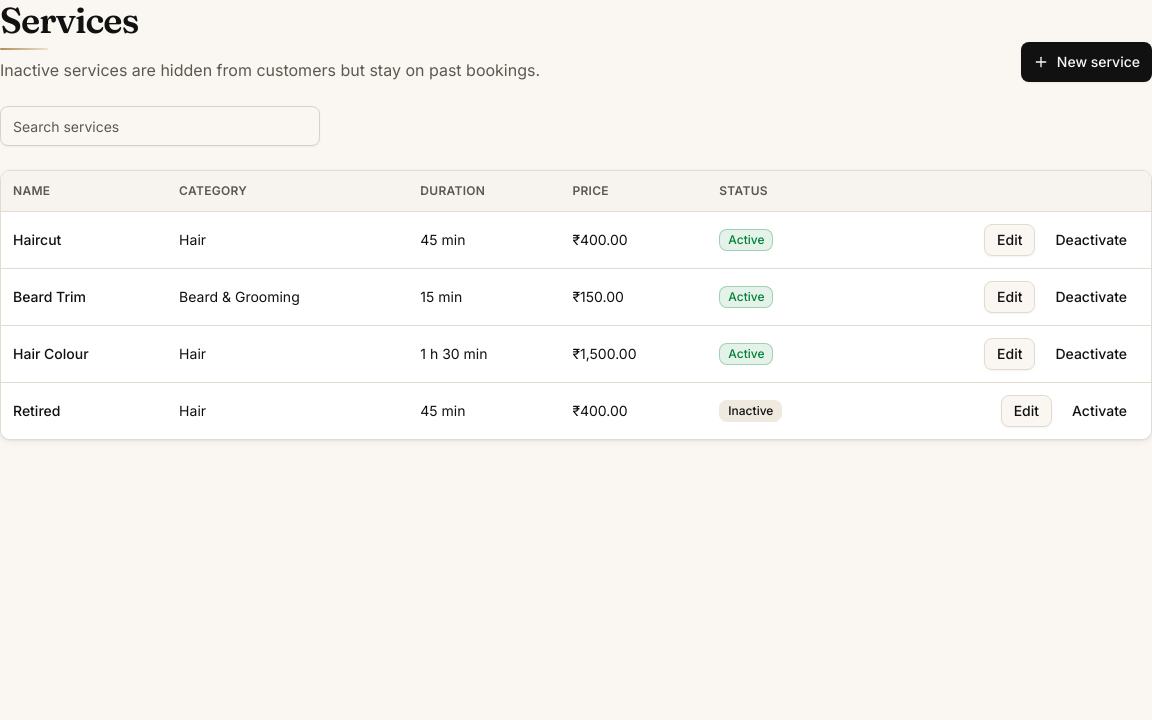
Test: services admin (FR-011, API-023..027) › maps duplicate names and grid violations onto the fields
Click the button with aria-label "Edit Haircut".
click(1010, 240)  # box [984,224,1036,256]
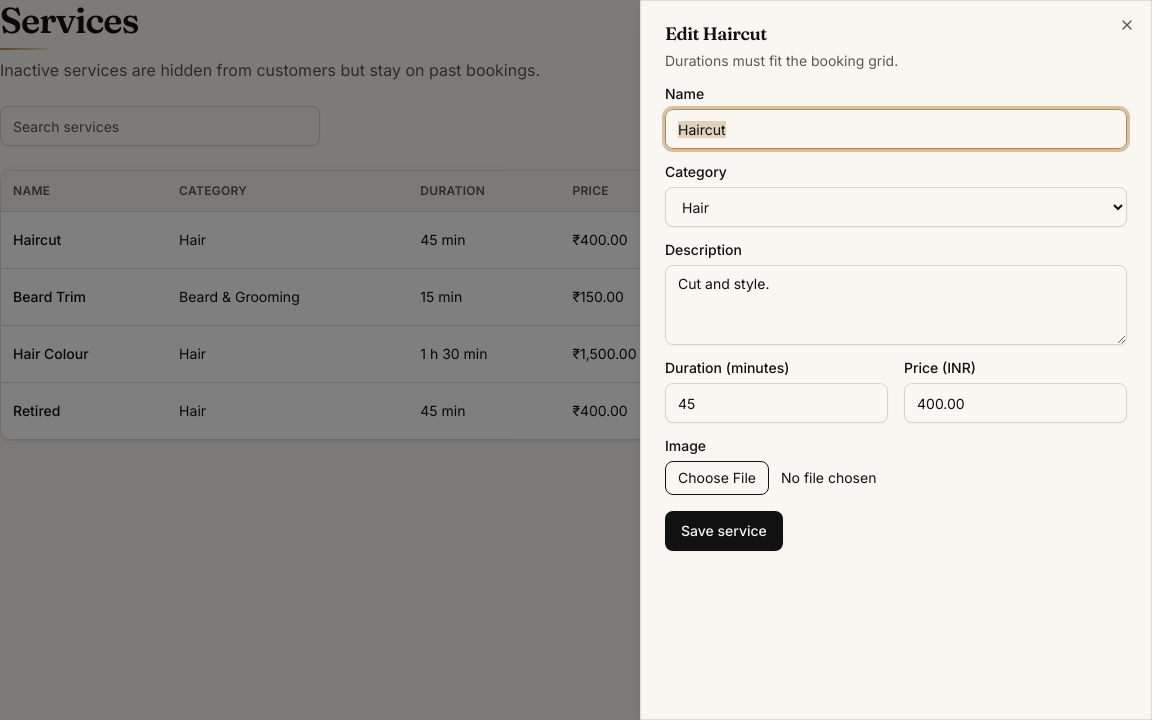
Click the button "Save service".
click(724, 531)  # box [665,511,783,551]
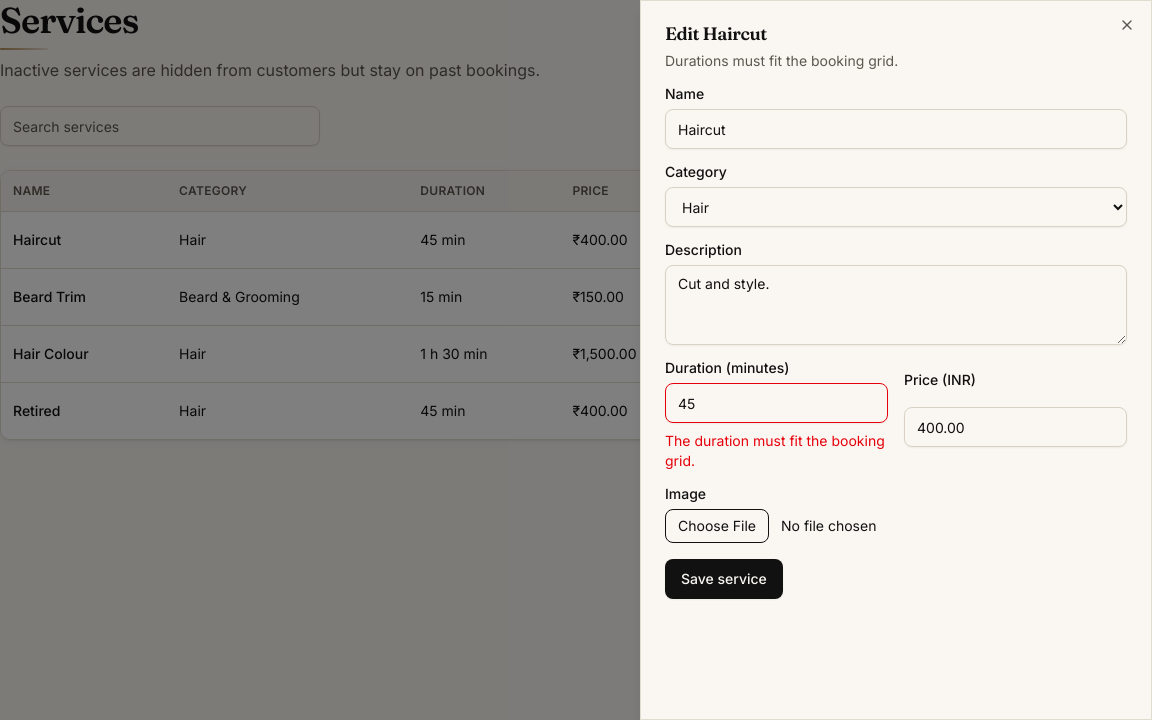
Check: the text "The duration must fit the booking grid." is shown, box [665,431,888,471]
Click the button "Save service".
click(724, 579)  # box [665,559,783,599]
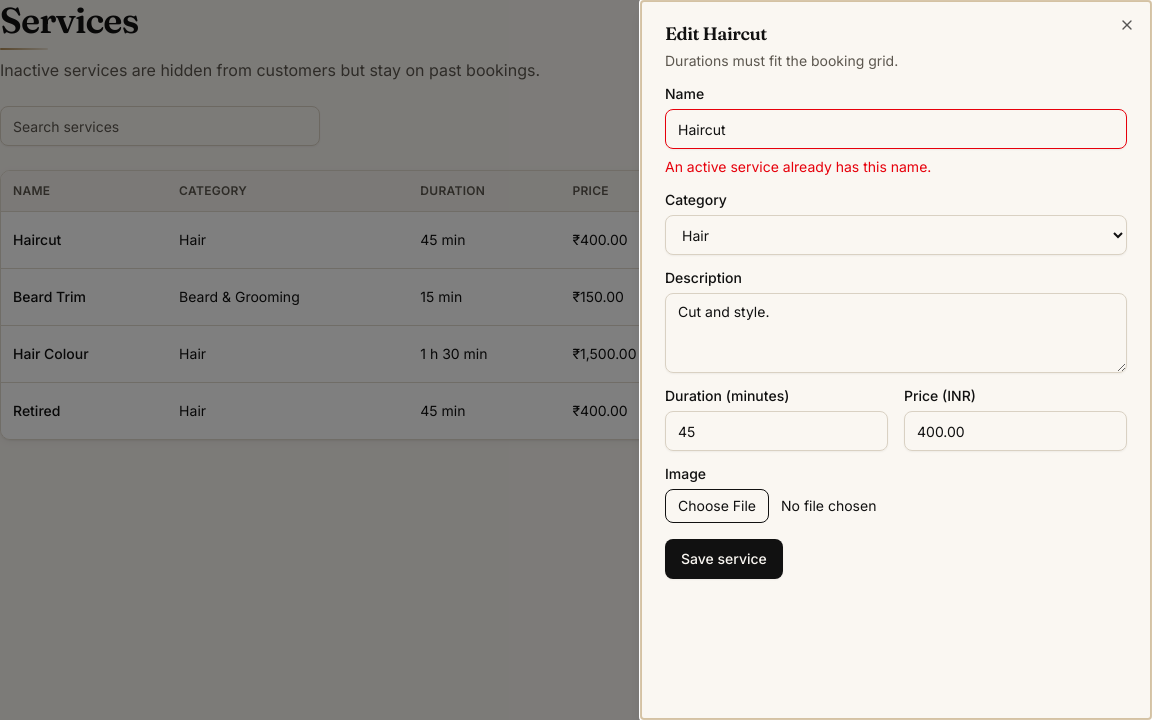
Check: the text "An active service already has this name." is shown, box [665,158,931,175]
